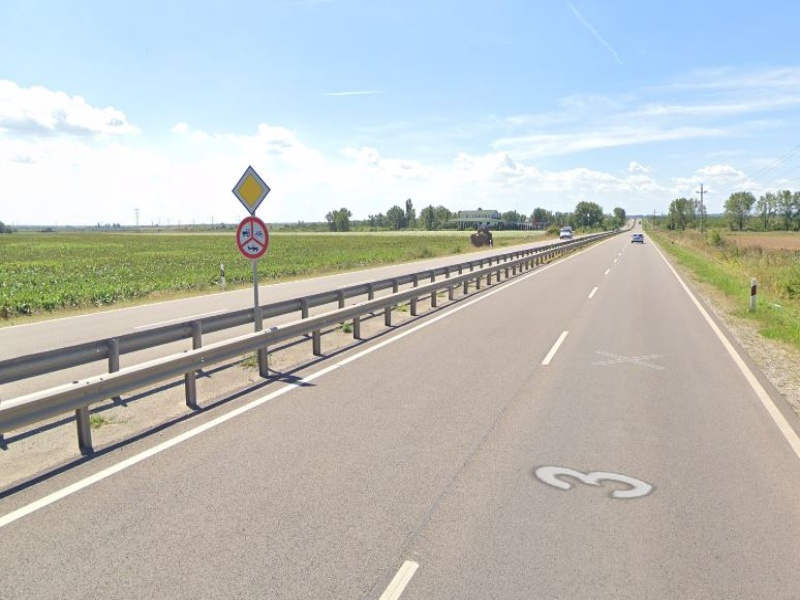fout: (229, 165, 274, 215)
